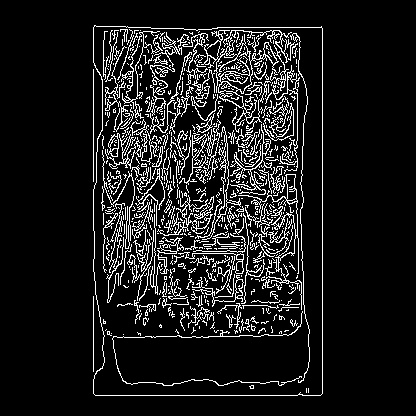buddha-sitting: (88, 175, 200, 263)
